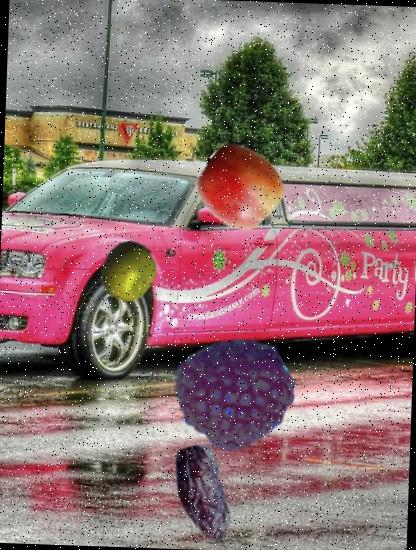Apple: (196, 142, 288, 234)
Dates: (152, 443, 254, 546)
Pomelo: (97, 240, 160, 303)
Raspberry: (175, 333, 294, 452)
